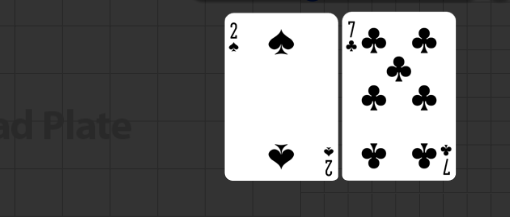2S: (322, 144, 335, 177)
7C: (438, 141, 453, 176)
